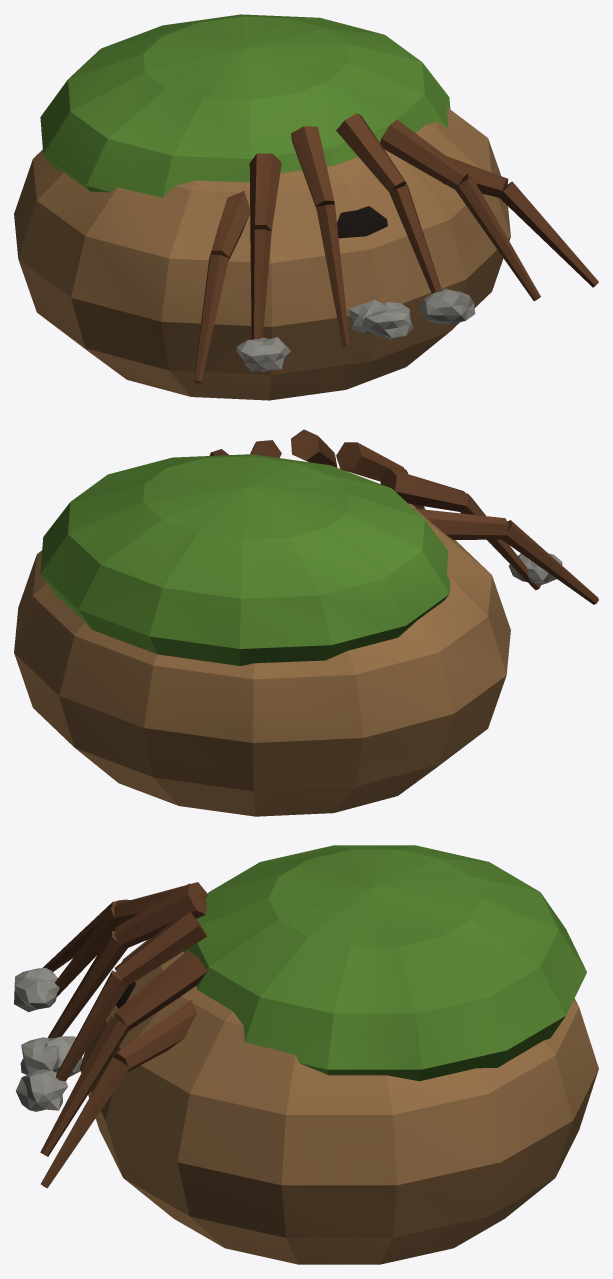
Rendered from fox_burrow.glb.
3 views of the same model, one above another, from view 1: azimuth 30°, elevation 25°; view 2: azimuth 150°, elevation 25°; view 3: azimuth 270°, elevation 25° (orthographic). The views are drawn at different scales.
Visible parts, largest first — view 1: Burrow-col, BurrowHole; view 2: Burrow-col; view 3: Burrow-col.
Boxes of the visible parts, bbox=[...] form: Burrow-col: bbox=[14, 14, 598, 400]; BurrowHole: bbox=[337, 206, 387, 238]; Burrow-col: bbox=[14, 429, 598, 816]; Burrow-col: bbox=[14, 845, 598, 1264].
Size of the model in its own units: 4.68 by 3.2 by 4.96.
